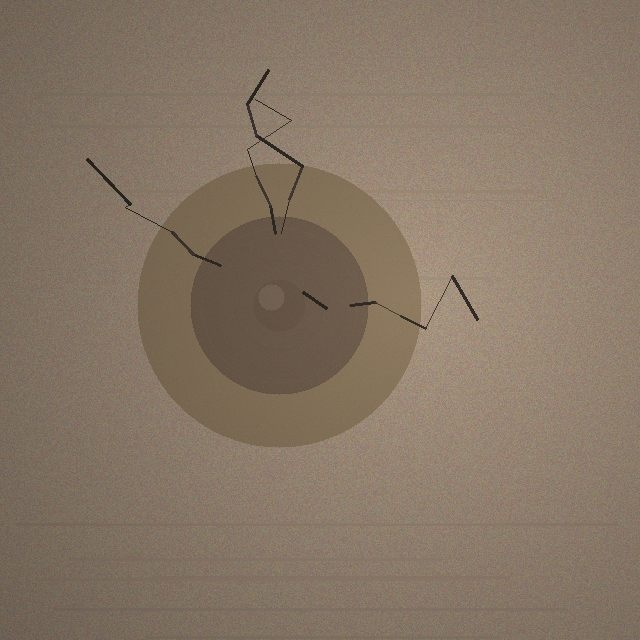crack: (137, 163, 421, 447)
